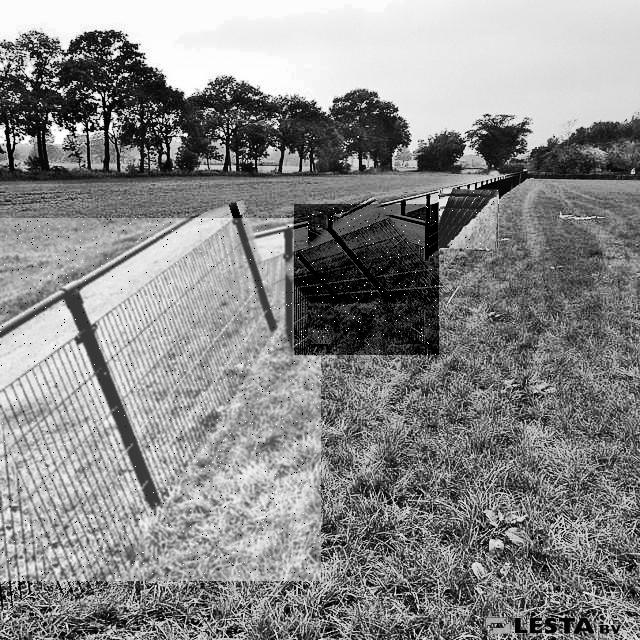fences: (0, 218, 321, 581), (294, 204, 439, 355), (438, 189, 499, 249)
